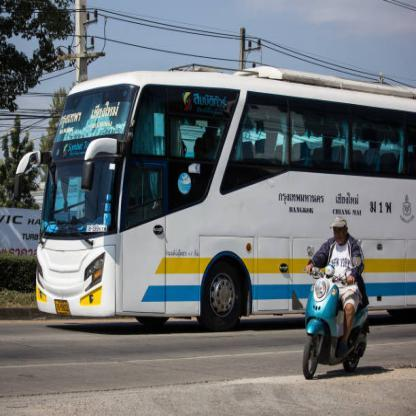Motorcycle: (291, 263, 374, 382)
